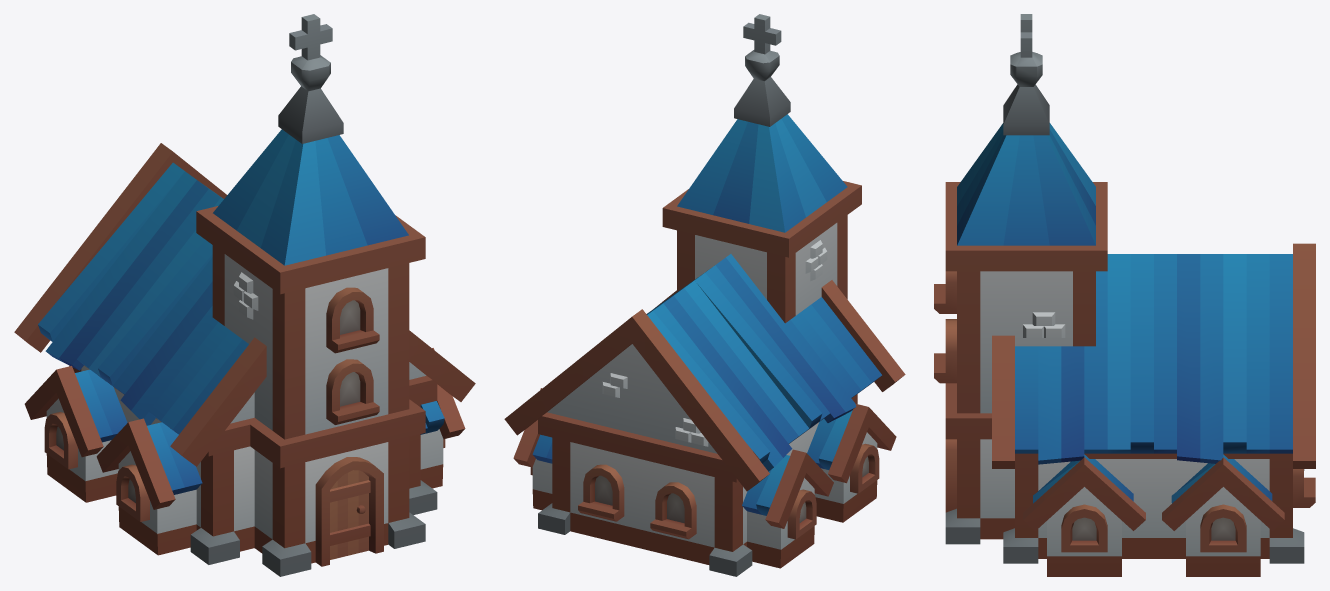
File: H_church_blue.glb
3 renders of one model, left to right at view 1: azimuth 30°, elevation 25°; view 2: azimuth 150°, elevation 25°; view 3: azimuth 270°, elevation 25°, orthographic. The views are drawn at different scales.
Parts seen in each view (by area): view 1: building_church_blue; view 2: building_church_blue; view 3: building_church_blue.
Part boxes in pixels (left/top/right/bottom): building_church_blue: left=14, top=14, right=475, bottom=576; building_church_blue: left=504, top=14, right=905, bottom=576; building_church_blue: left=934, top=14, right=1315, bottom=576.
Bounding box in the file's own units: 1.03 × 1.65 × 1.15.
